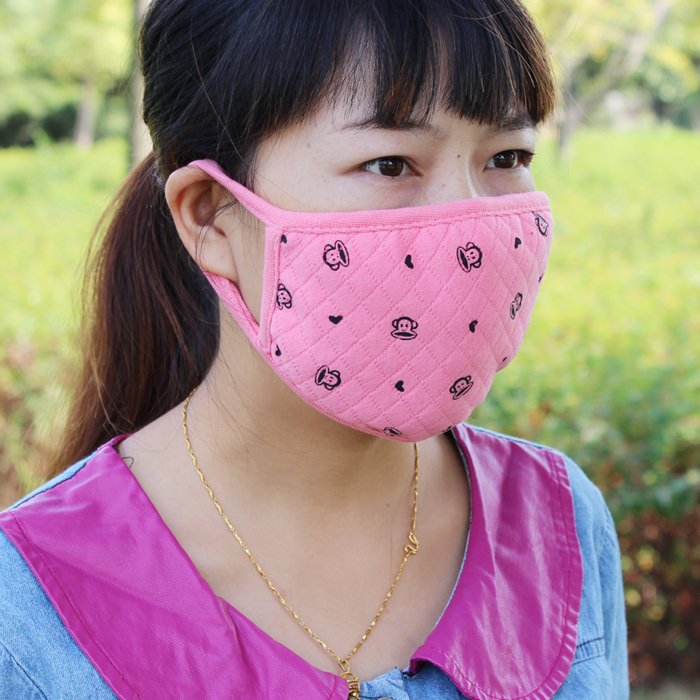face_mask: (261, 60, 553, 442)
